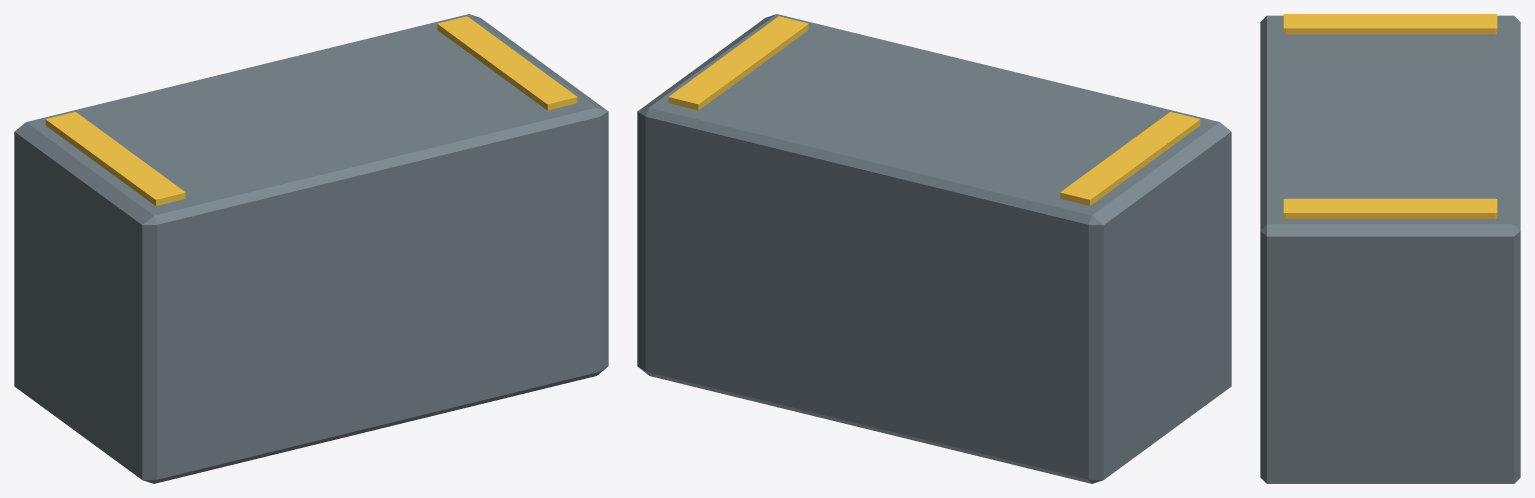
The model's file is wall_steel_2m.glb.
3 renders of one model, left to right at view 1: azimuth 30°, elevation 25°; view 2: azimuth 150°, elevation 25°; view 3: azimuth 270°, elevation 25°, orthographic. The views are drawn at different scales.
Visible parts, largest first — view 1: Steel barrier.001, Safety edge.003, Safety edge.002; view 2: Steel barrier.001, Safety edge.003, Safety edge.002; view 3: Steel barrier.001, Safety edge.002, Safety edge.003.
Boxes of the visible parts, x1=… form: Steel barrier.001: x1=14, y1=14, x2=608, y2=483; Safety edge.003: x1=437, y1=16, x2=577, y2=110; Safety edge.002: x1=45, y1=112, x2=185, y2=205; Steel barrier.001: x1=637, y1=14, x2=1231, y2=483; Safety edge.003: x1=668, y1=16, x2=808, y2=110; Safety edge.002: x1=1060, y1=112, x2=1200, y2=205; Steel barrier.001: x1=1260, y1=15, x2=1520, y2=483; Safety edge.002: x1=1283, y1=14, x2=1497, y2=34; Safety edge.003: x1=1283, y1=198, x2=1497, y2=218.
Bounding box in the file's own units: 2 × 1.13 × 1.
